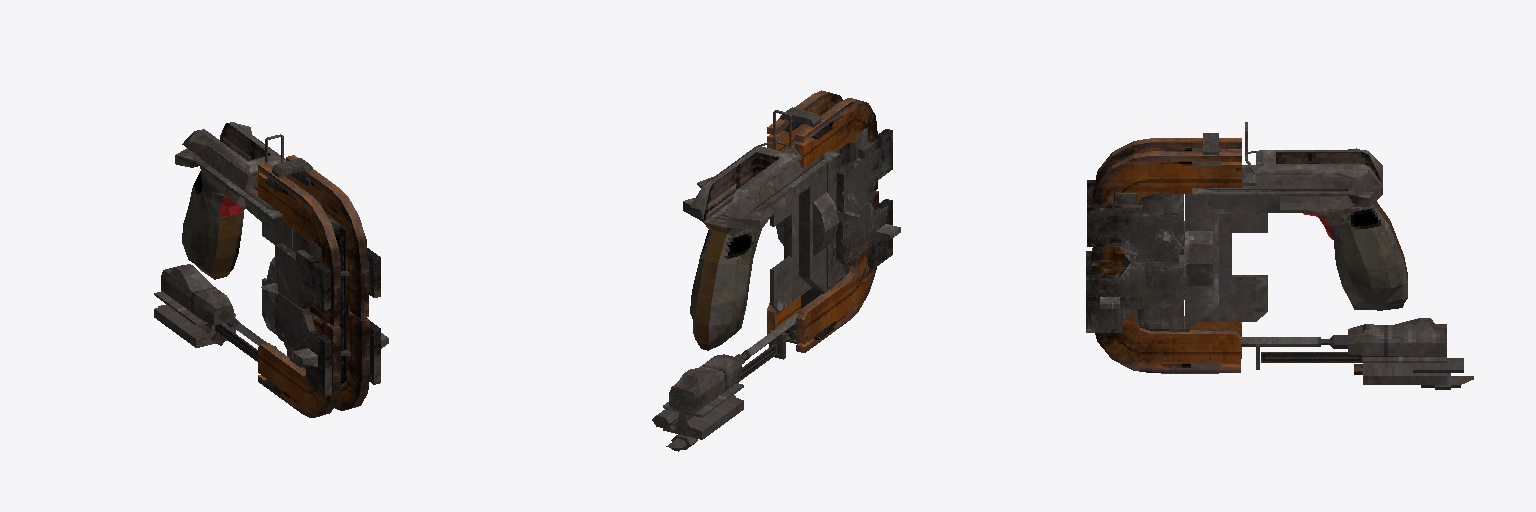
The picture shows the model from 3 angles: view 1: azimuth 30°, elevation 25°; view 2: azimuth 150°, elevation 25°; view 3: azimuth 270°, elevation 25°; orthographic projection.
Visible parts, largest first — view 1: Mesh_0747; view 2: Mesh_0747; view 3: Mesh_0747.
Boxes of the visible parts, x1,y1,x2,y2 form: Mesh_0747: [154, 122, 388, 417]; Mesh_0747: [652, 90, 900, 451]; Mesh_0747: [1086, 122, 1473, 389].
Bounding box in the file's own units: 10.95 × 31.88 × 42.71.
Materials: 1 (1 with a texture image).